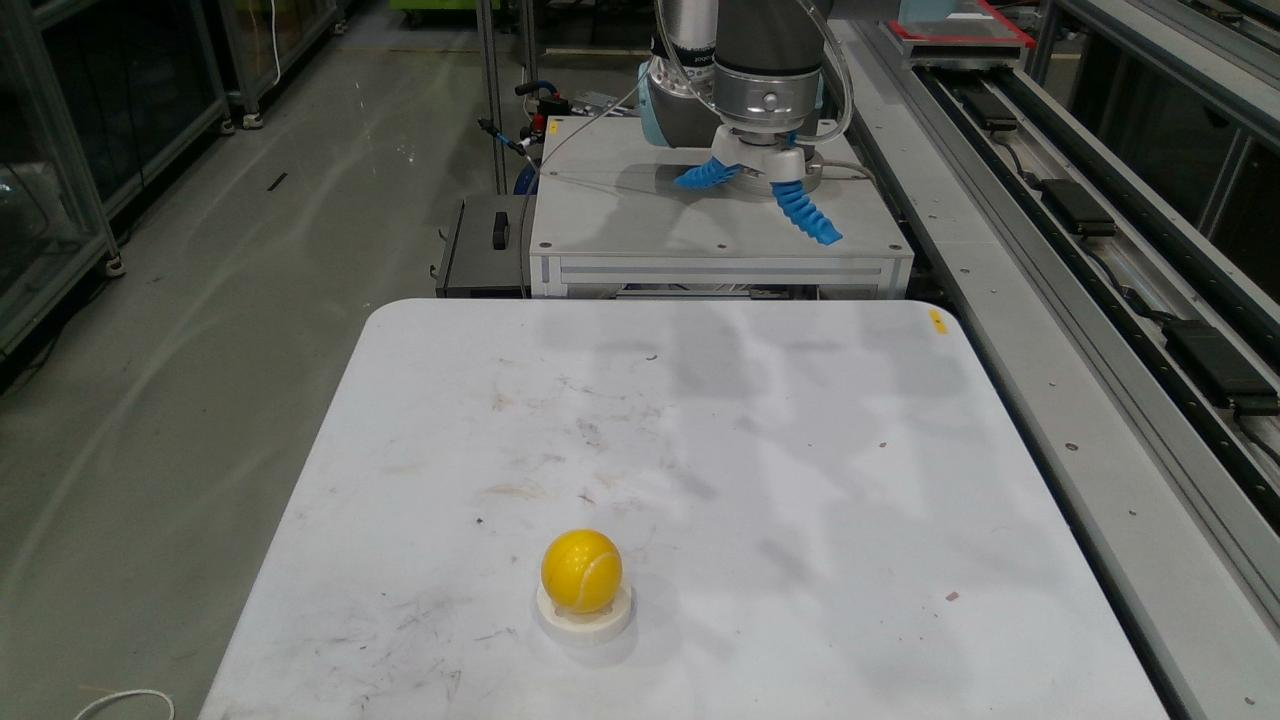UR5: (642, 1, 954, 179), (732, 169, 772, 195)
gripper_left: (674, 156, 740, 189)
gripper_right: (774, 180, 838, 242)
target: (544, 531, 618, 611), (536, 584, 632, 645)
